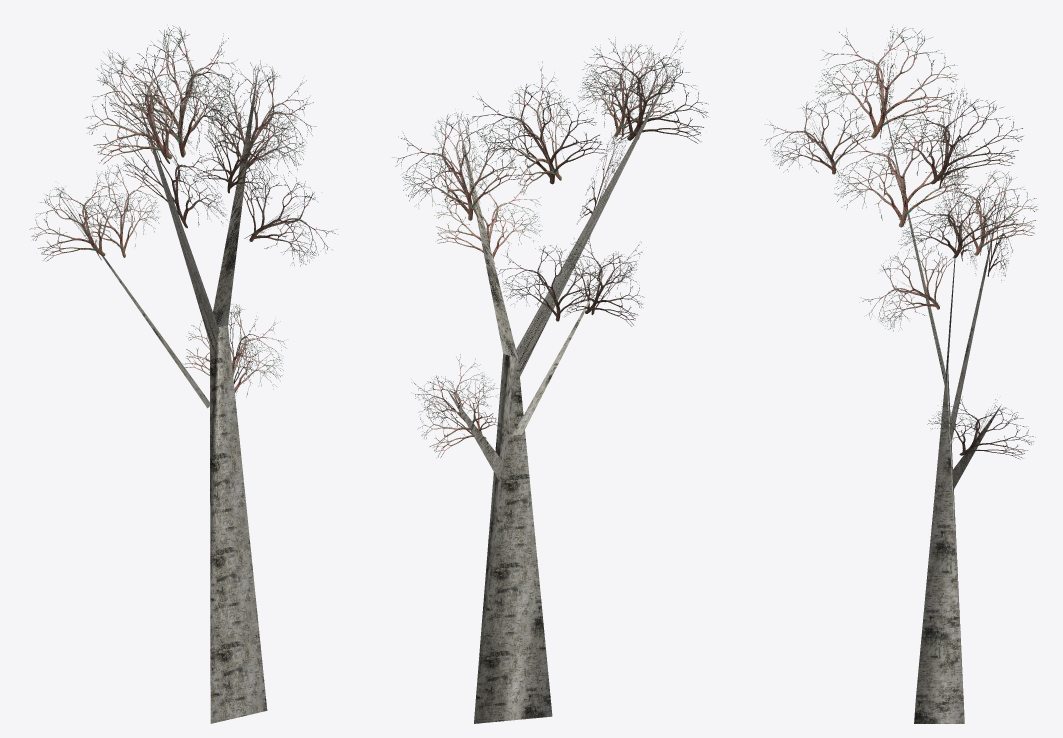
File: decd_whitebirchtreebranches_a2_l2.fbx
3 views of the same model, side by side, from view 1: azimuth 30°, elevation 25°; view 2: azimuth 150°, elevation 25°; view 3: azimuth 270°, elevation 25° (orthographic). The views are drawn at different scales.
Parts seen in each view (by area): view 1: mesh_node; view 2: mesh_node; view 3: mesh_node.
Part boxes in pixels (x1,y1,x2,y2): mesh_node: [29, 25, 337, 723]; mesh_node: [392, 33, 708, 723]; mesh_node: [761, 26, 1038, 723].
Bounding box in the file's own units: 7.8 × 17.8 × 7.48.
